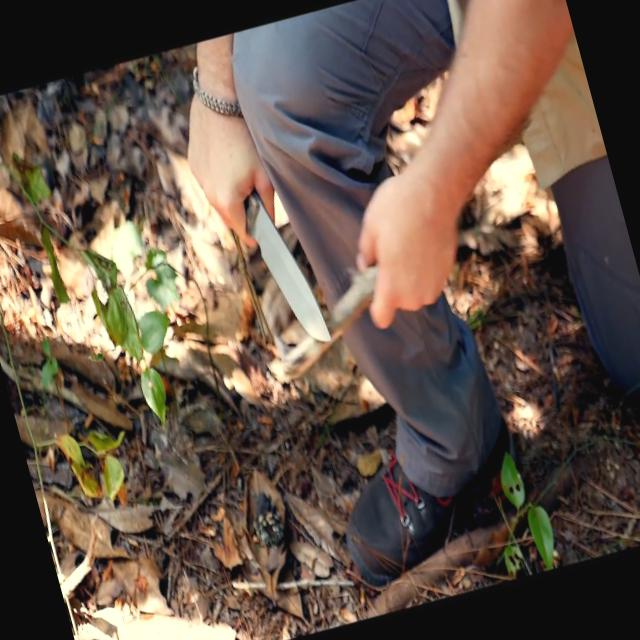knife: (181, 123, 339, 379)
